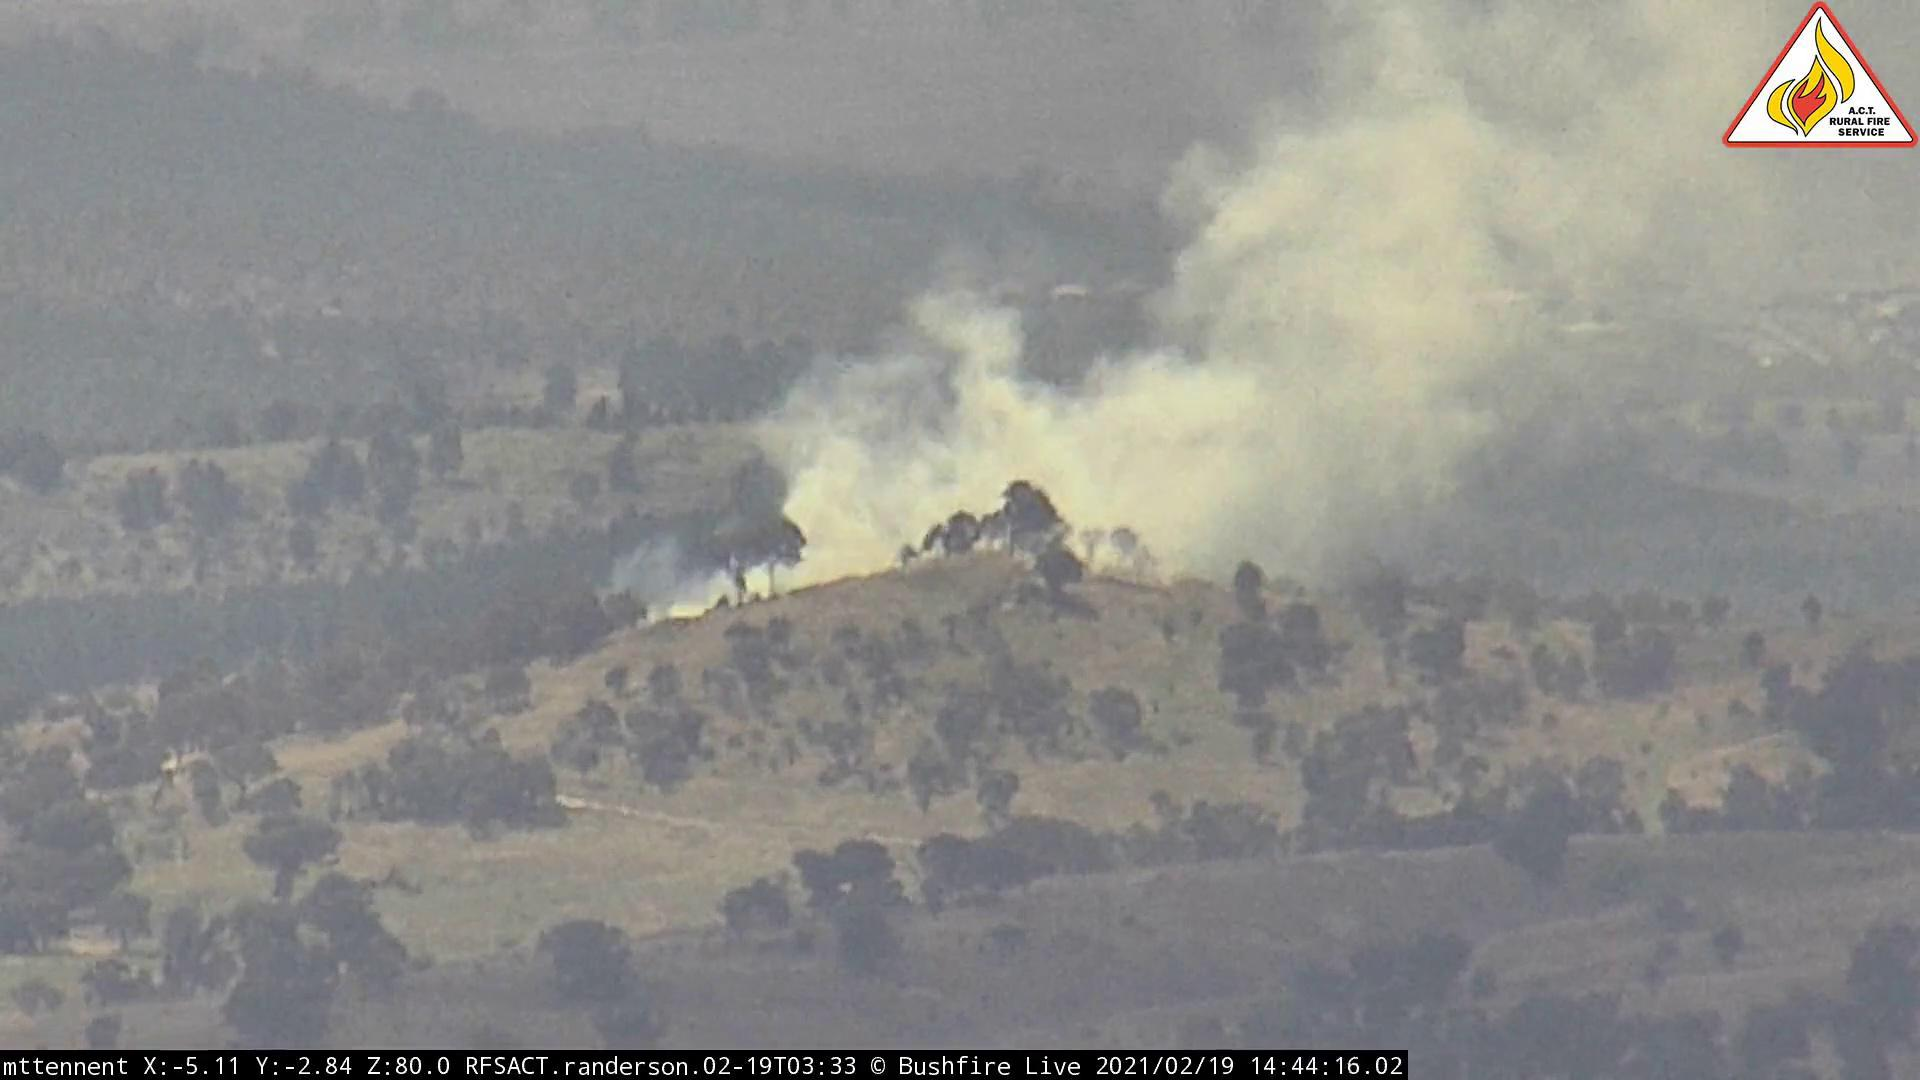Smoke: (634, 42, 1720, 616)
